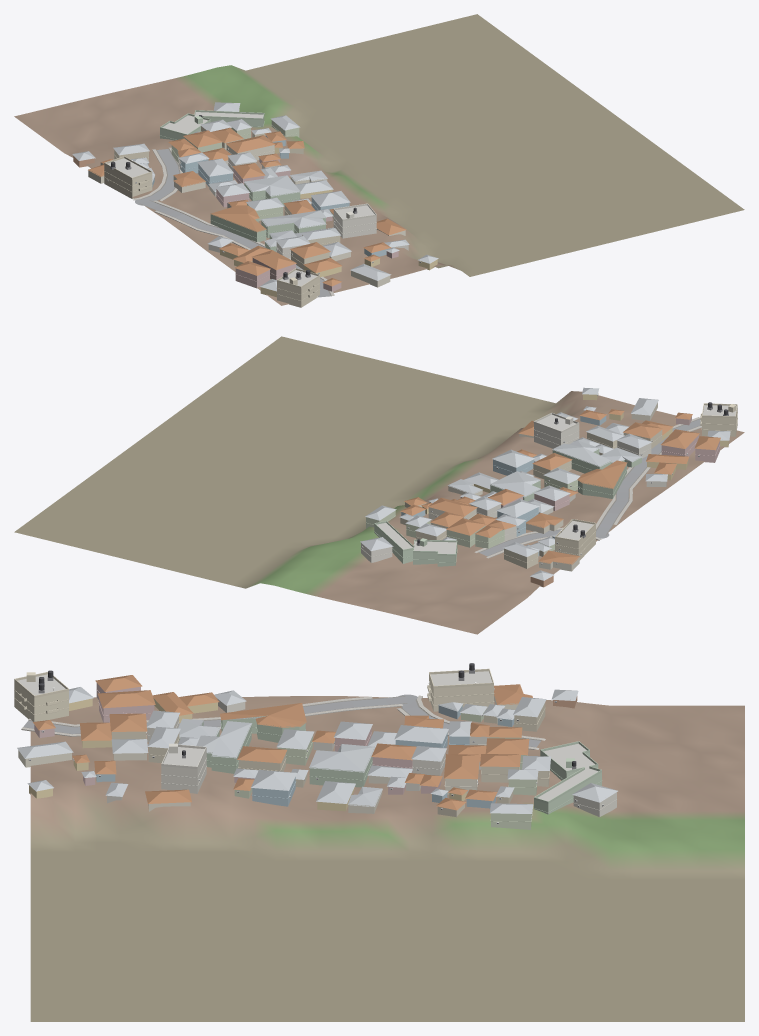
3 views of the same model, one above another, from view 1: azimuth 30°, elevation 25°; view 2: azimuth 150°, elevation 25°; view 3: azimuth 270°, elevation 25° (orthographic). The views are drawn at different scales.
Parts seen in each view (by area): view 1: Terrain-col, Buildings-col, Details, Roads-col, Sidewalks-col; view 2: Terrain-col, Buildings-col, Details, Roads-col, Sidewalks-col; view 3: Terrain-col, Buildings-col, Details, Roads-col, Sidewalks-col.
Boxes of the visible parts, bbox=[...] form: Terrain-col: bbox=[14, 14, 744, 305]; Buildings-col: bbox=[72, 102, 438, 307]; Details: bbox=[104, 110, 421, 301]; Roads-col: bbox=[135, 149, 331, 297]; Sidewalks-col: bbox=[133, 147, 334, 297]; Terrain-col: bbox=[14, 336, 744, 634]; Buildings-col: bbox=[360, 387, 737, 587]; Details: bbox=[361, 395, 737, 564]; Roads-col: bbox=[479, 418, 700, 556]; Sidewalks-col: bbox=[474, 417, 701, 558]; Terrain-col: bbox=[30, 696, 744, 1021]; Buildings-col: bbox=[14, 671, 617, 829]; Details: bbox=[14, 663, 617, 824]; Roads-col: bbox=[23, 694, 541, 747]; Sidewalks-col: bbox=[21, 695, 545, 749].
Size of the model in its own units: 262 by 22.3 by 262.
